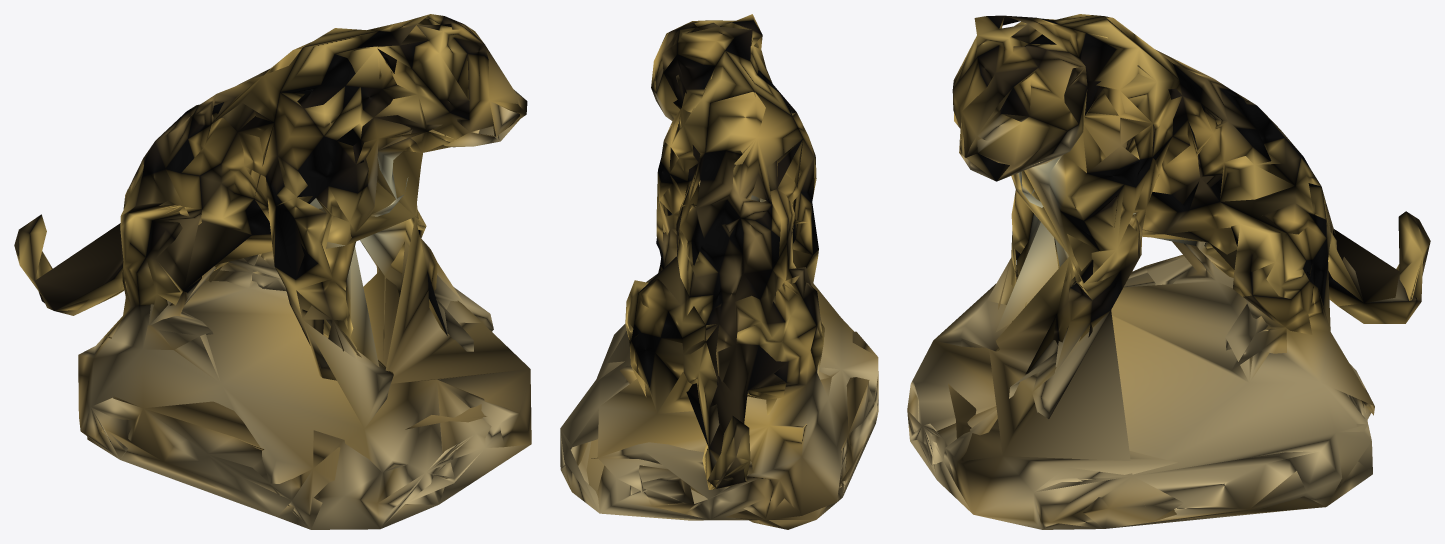
Rendered from gen3d-jaguar-statue-lod0.glb.
The picture shows the model from 3 angles, left to right: view 1: azimuth 30°, elevation 25°; view 2: azimuth 150°, elevation 25°; view 3: azimuth 270°, elevation 25°; orthographic projection. The views are drawn at different scales.
Parts seen in each view (by area): view 1: part_0; view 2: part_0; view 3: part_0.
Part boxes in pixels (left/top/right/bottom): part_0: left=14, top=14, right=531, bottom=529; part_0: left=560, top=14, right=878, bottom=529; part_0: left=907, top=14, right=1430, bottom=529.
Bounding box in the file's own units: 0.7852 × 0.9925 × 0.967.
